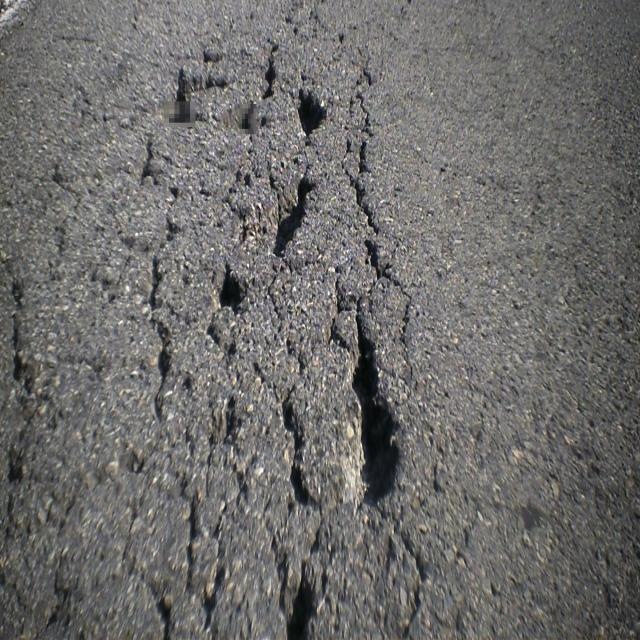Pothole: (334, 307, 406, 509), (274, 372, 328, 520), (257, 162, 324, 265), (141, 243, 177, 421), (274, 555, 328, 640), (208, 236, 254, 332), (200, 379, 242, 453), (293, 75, 326, 150), (260, 38, 282, 103)
